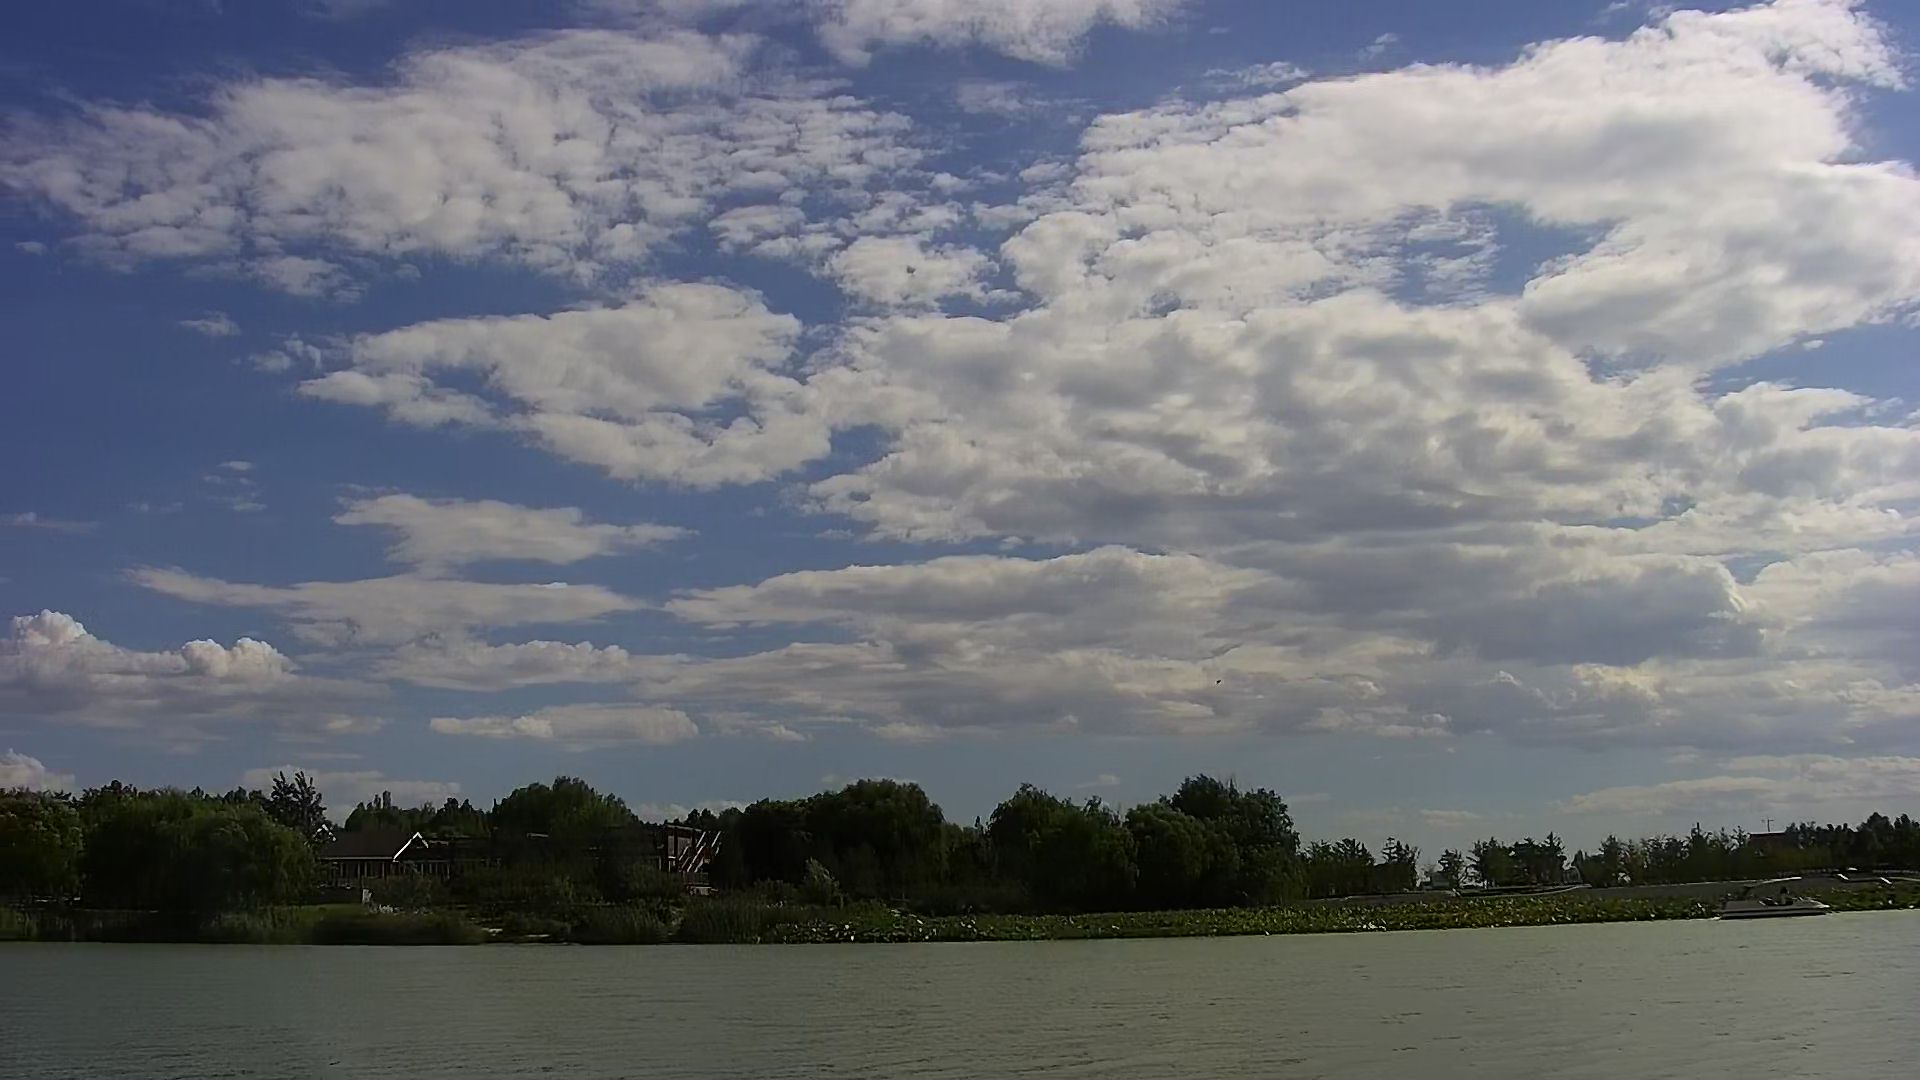boat: (1706, 868, 1837, 927)
